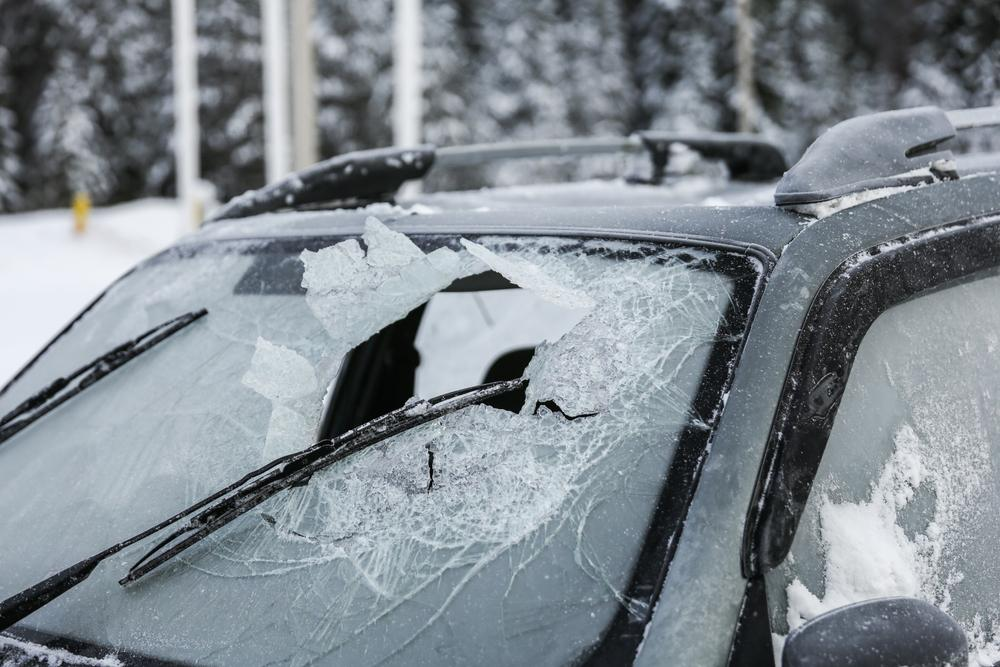glass shatter: (0, 234, 767, 667)
